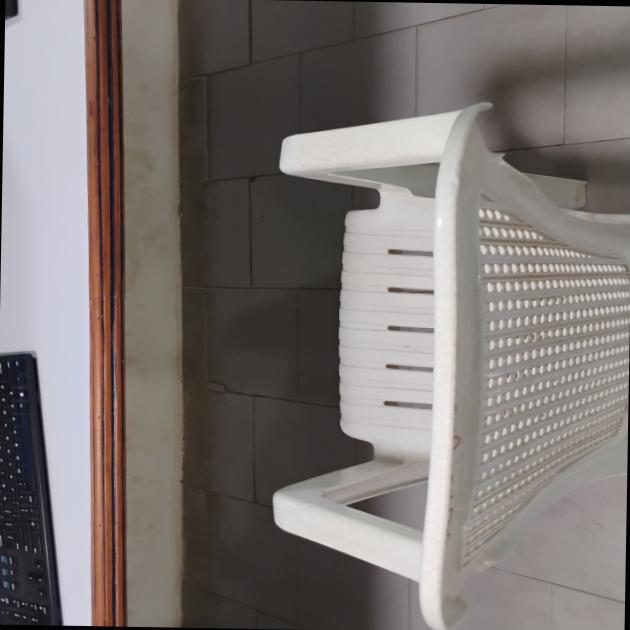chair: (183, 79, 630, 630)
keyboard: (0, 340, 88, 626)
